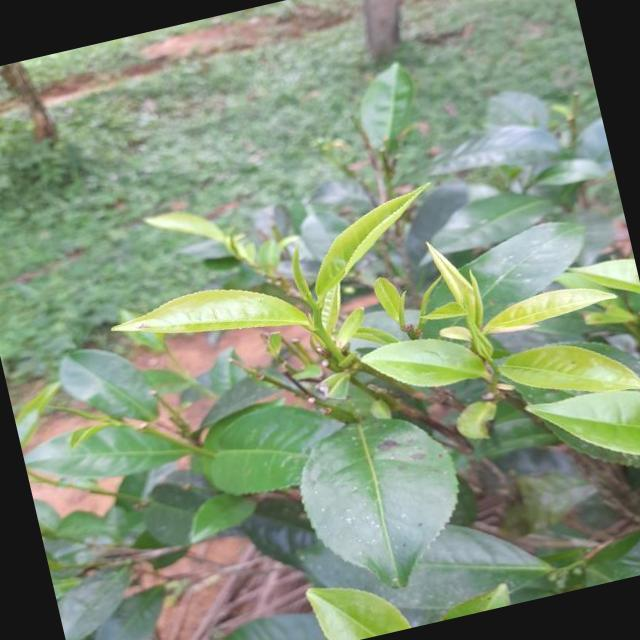Stem: (314, 324, 322, 332)
